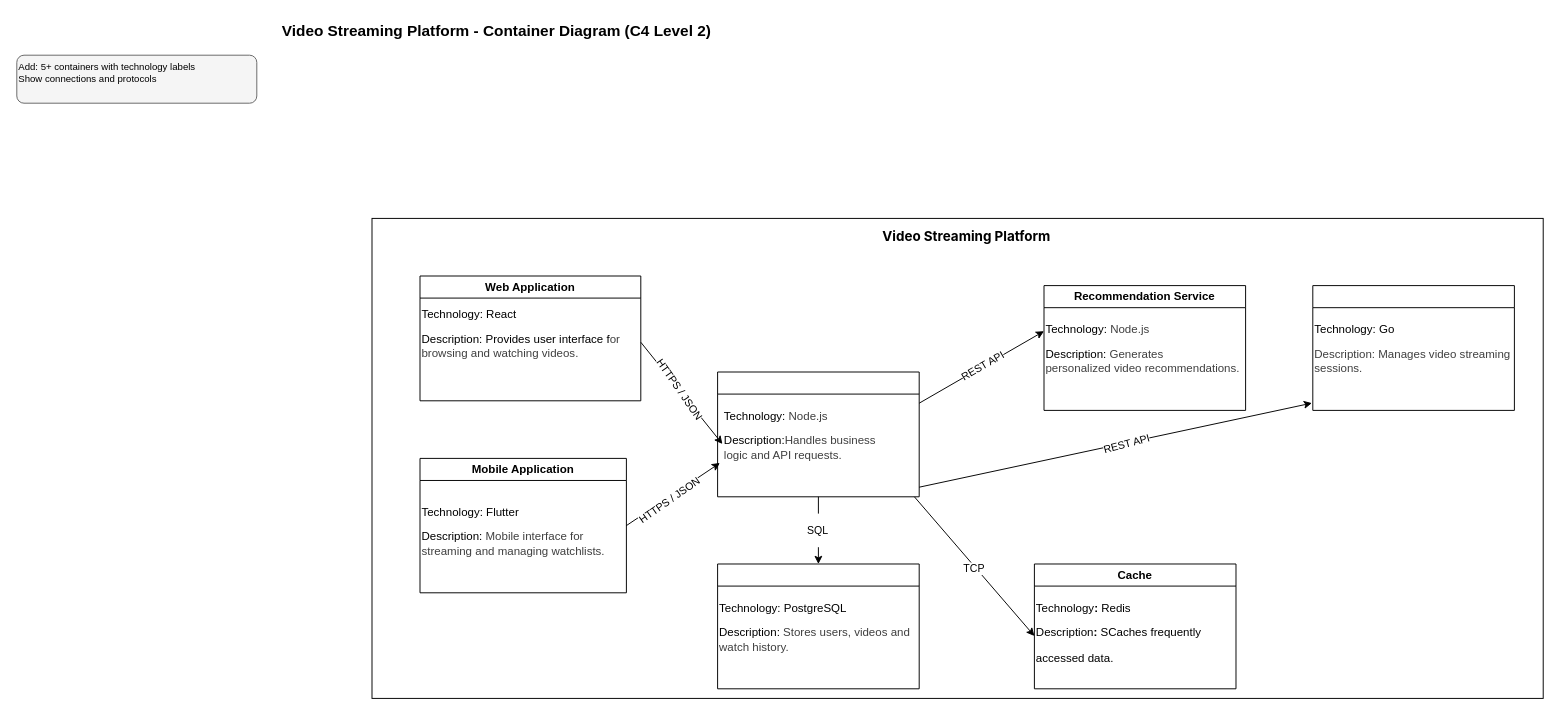
This 1560x721 diagram has some shape labels left out. The shapes that lost their labels are listed below. From the top down, each one's box as (x1, y1, x2, y2) in pixels, then its label:
(1312, 285, 1514, 410): Streaming Service
(717, 371, 919, 497): API Gateway / Backend
(717, 563, 919, 689): Database
